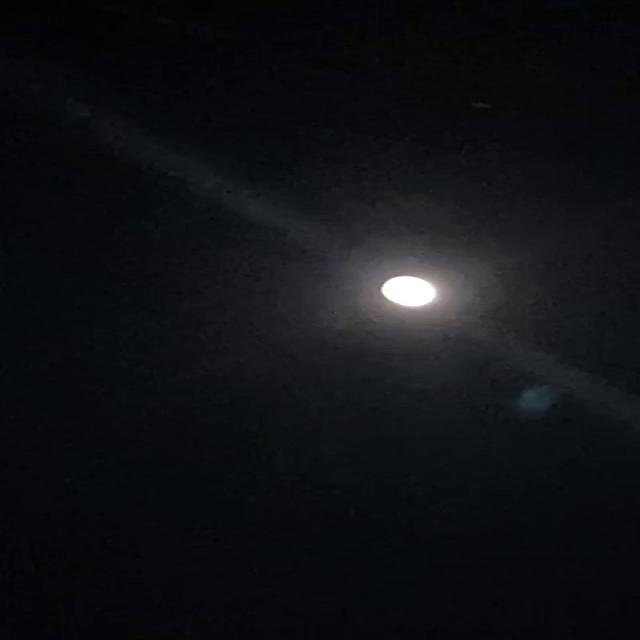moon: (341, 250, 468, 321)
